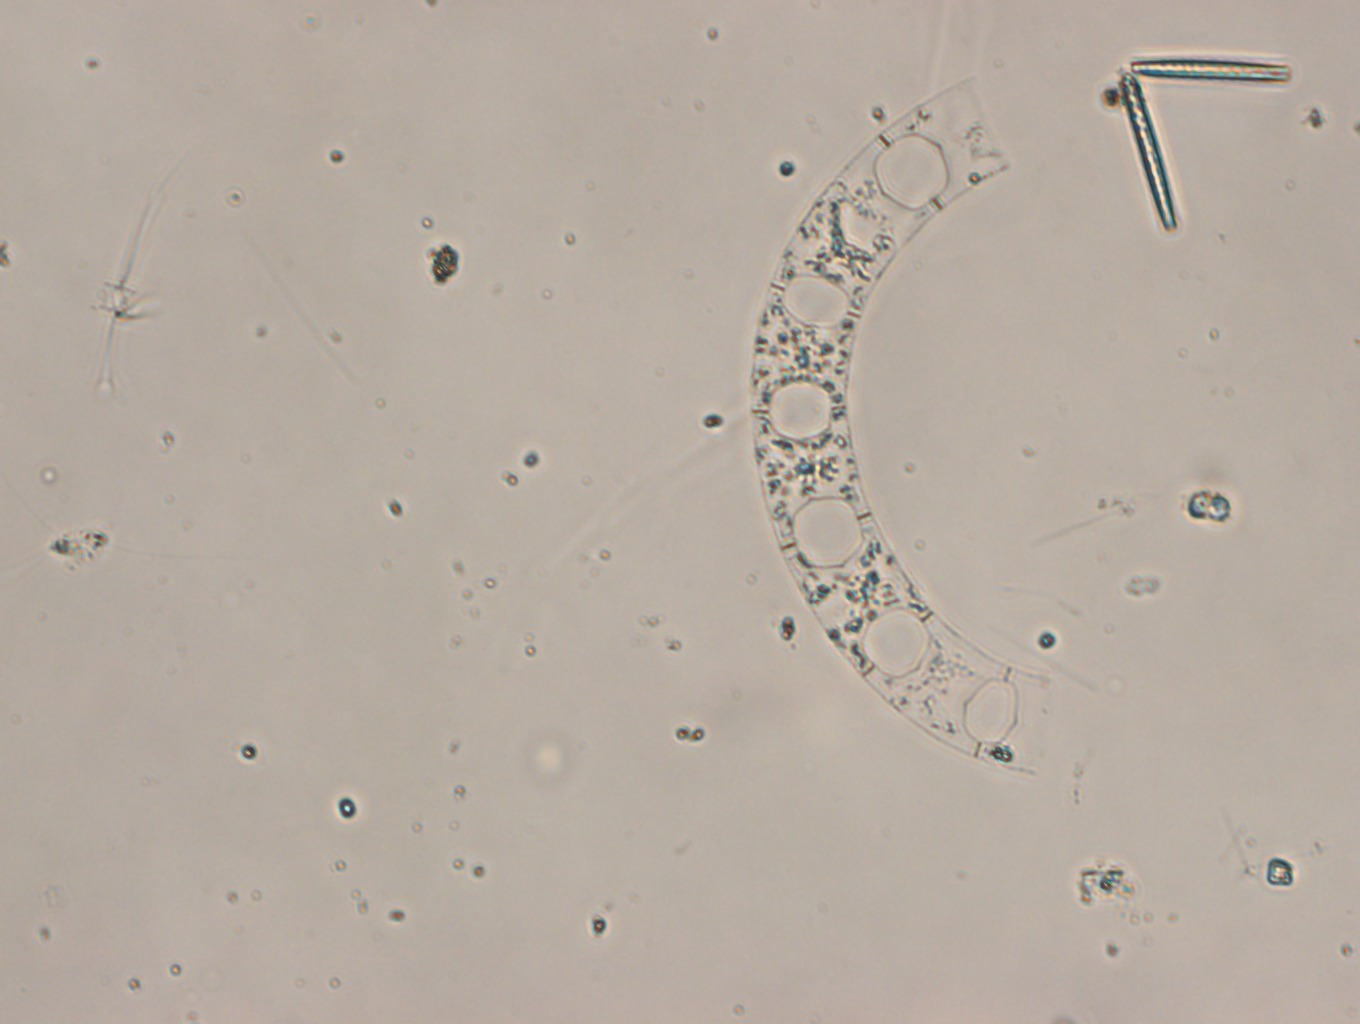eucampia: (747, 72, 1051, 776)
thalassionema nitzschioides: (1118, 58, 1292, 233)
